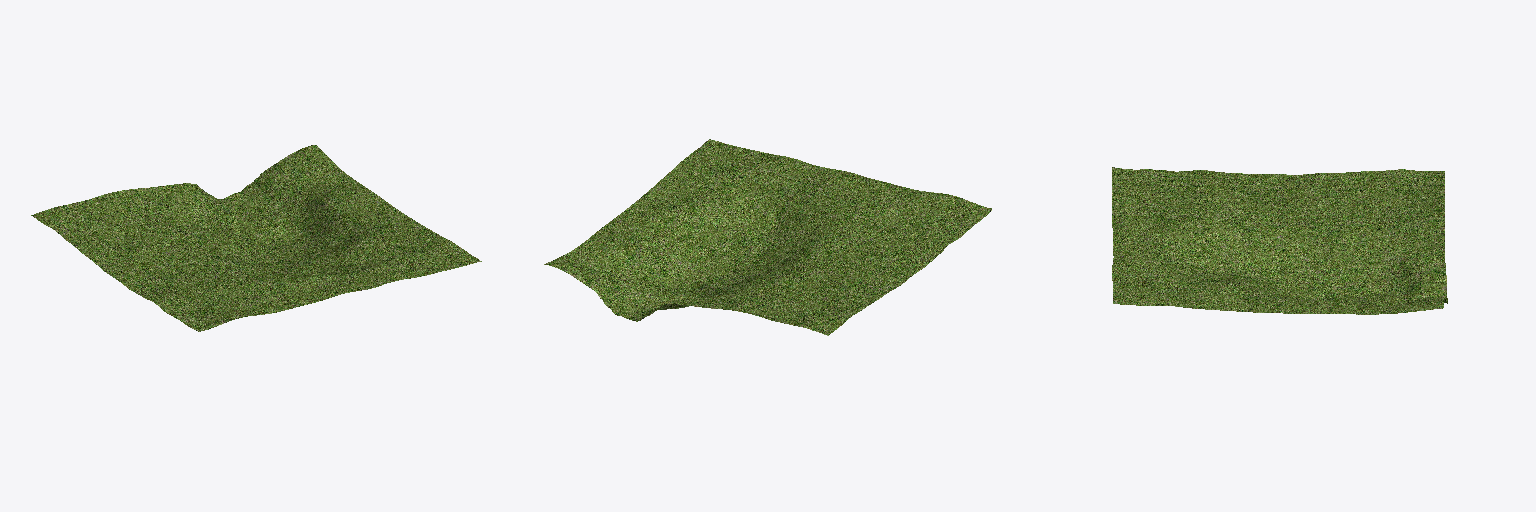
3 views of the same model, side by side, from view 1: azimuth 30°, elevation 25°; view 2: azimuth 150°, elevation 25°; view 3: azimuth 270°, elevation 25° (orthographic).
Visible parts, largest first — view 1: Plane_Plane.004; view 2: Plane_Plane.004; view 3: Plane_Plane.004.
Part boxes in pixels (x1,y1,x2,y2): Plane_Plane.004: (31, 145, 481, 331); Plane_Plane.004: (544, 139, 991, 335); Plane_Plane.004: (1112, 167, 1447, 314).
Bounding box in the file's own units: 15.29 × 2.43 × 15.62.
Materials: 1 (1 with a texture image).